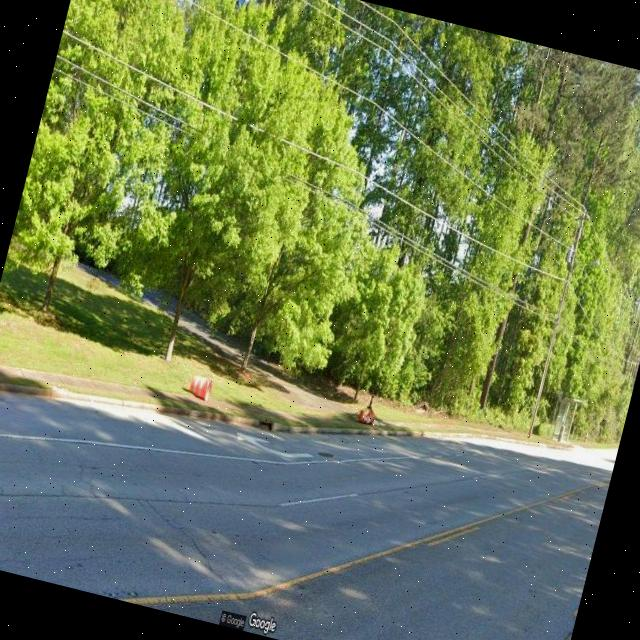seating: (562, 431, 566, 437)
shelter: (551, 394, 582, 442)
trash_can: (557, 424, 565, 440)
